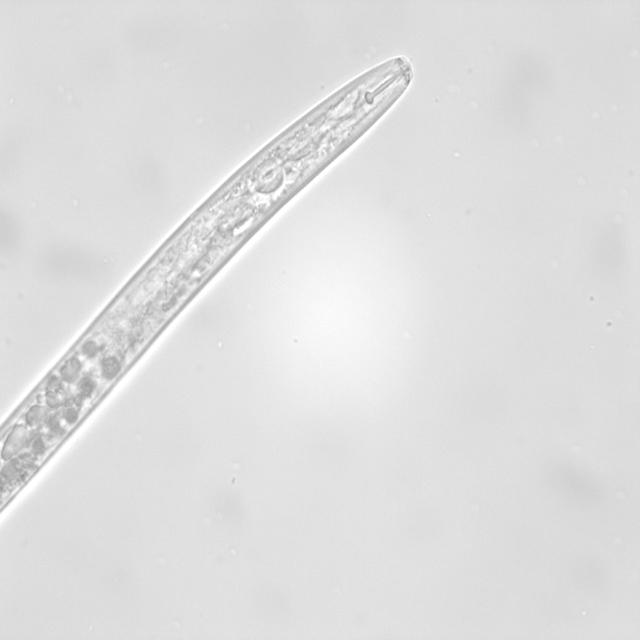Pratylenchus: (0, 49, 422, 529)
